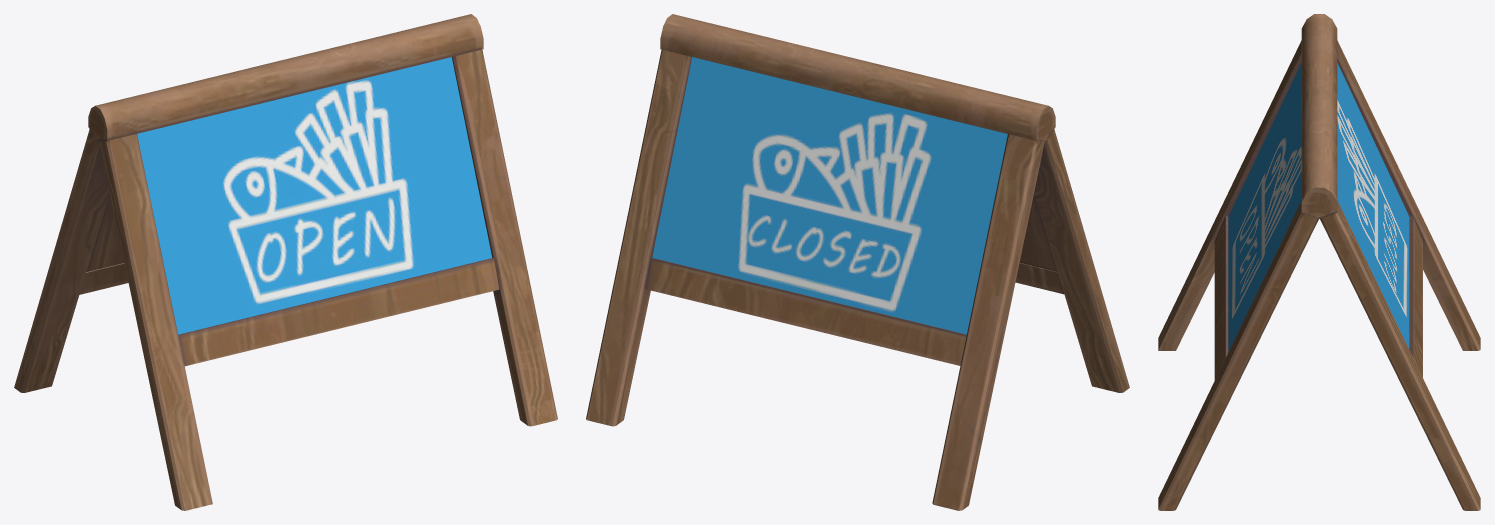
Rendered from tabela.fbx.
3 views of the same model, side by side, from view 1: azimuth 30°, elevation 25°; view 2: azimuth 150°, elevation 25°; view 3: azimuth 270°, elevation 25° (orthographic). The views are drawn at different scales.
Visible parts, largest first — view 1: Tabela; view 2: Tabela; view 3: Tabela.
Part boxes in pixels (<box>): Tabela: <box>14,14,557,510</box>; Tabela: <box>586,14,1129,510</box>; Tabela: <box>1158,14,1480,510</box>.
Size of the model in its own units: 62.52 by 54.21 by 49.04.
Materials: 1 (1 with a texture image).
